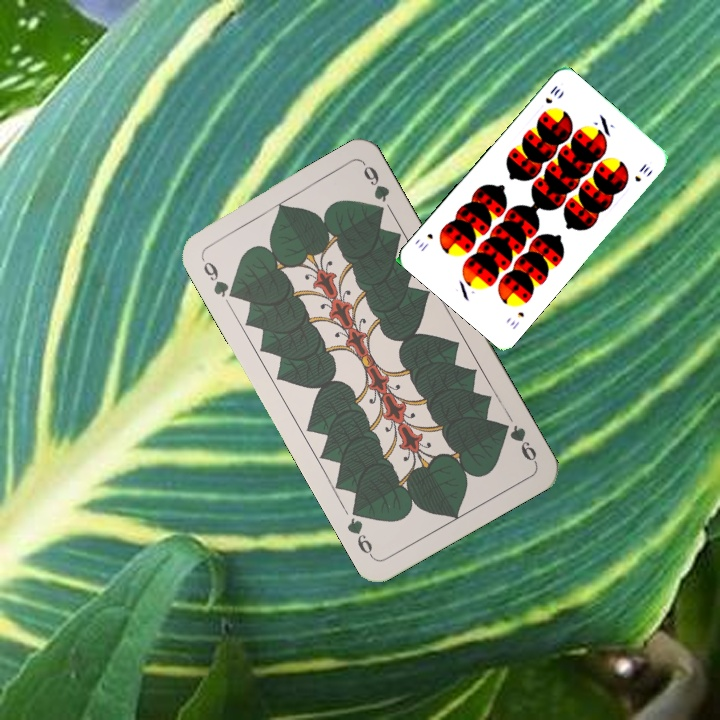G9: (495, 418, 540, 466), (197, 253, 241, 302)
S10: (541, 81, 563, 106), (506, 307, 527, 332)
